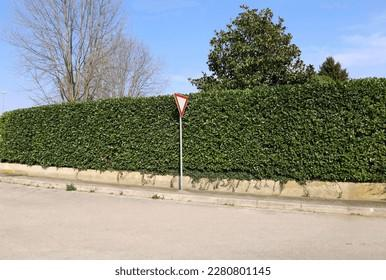Give Way: (175, 89, 191, 114)
